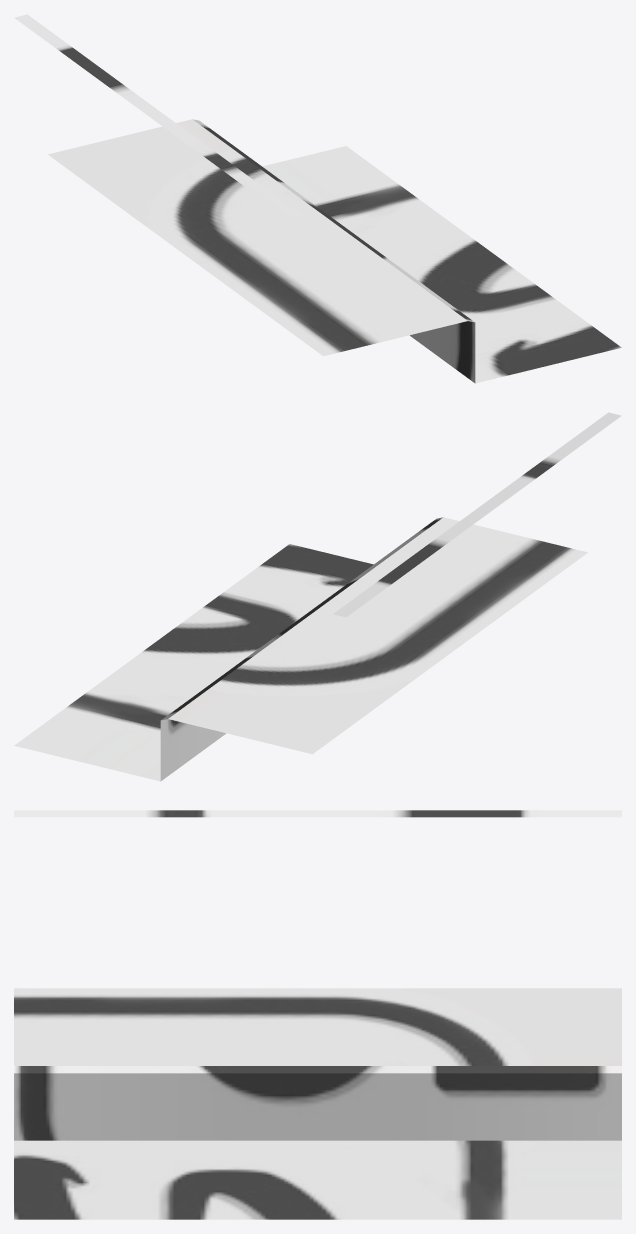
The model's file is bridge_below.fbx.
3 views of the same model, one above another, from view 1: azimuth 30°, elevation 25°; view 2: azimuth 150°, elevation 25°; view 3: azimuth 270°, elevation 25° (orthographic). The views are drawn at different scales.
Visible parts, largest first — view 1: Object007; view 2: Object007; view 3: Object007.
Part boxes in pixels (box(x1,y1,x2,y2)): Object007: box(14, 14, 621, 383); Object007: box(14, 412, 621, 781); Object007: box(14, 810, 621, 1219).
Size of the model in its own units: 4615 by 2778 by 6634.
